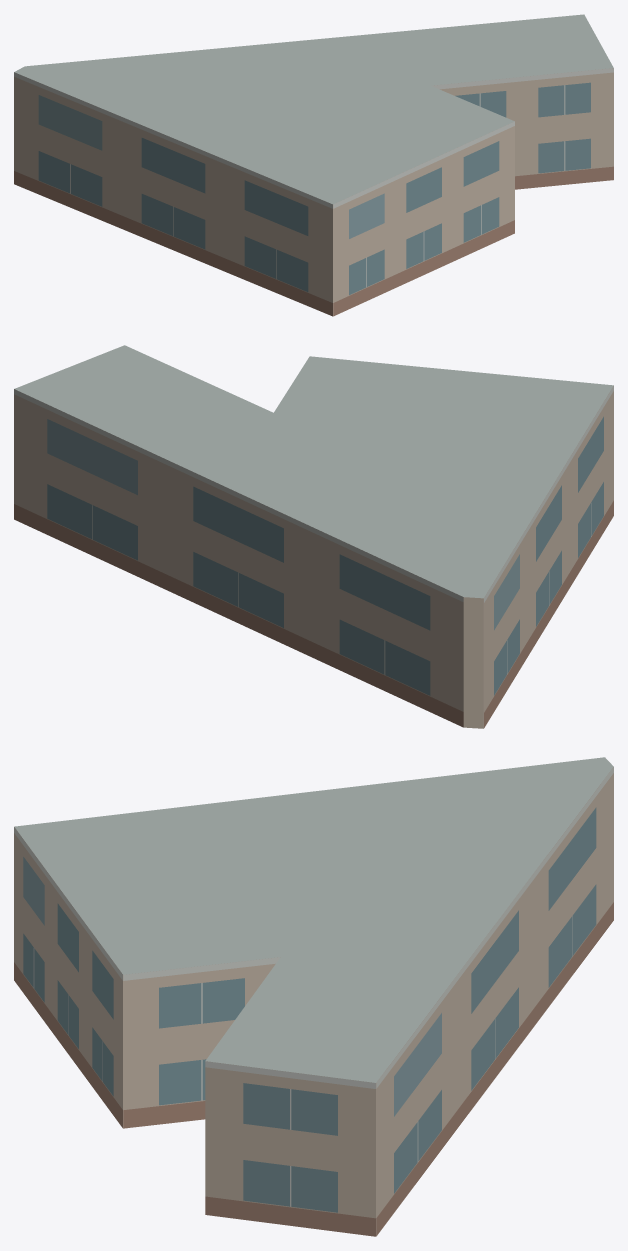
The model's file is survey-upis-32933564.glb.
3 views of the same model, one above another, from view 1: azimuth 30°, elevation 25°; view 2: azimuth 150°, elevation 25°; view 3: azimuth 270°, elevation 25° (orthographic). The views are drawn at different scales.
Parts seen in each view (by area): view 1: survey-upis-32933564.tmp; view 2: survey-upis-32933564.tmp; view 3: survey-upis-32933564.tmp.
Part boxes in pixels (x1,y1,x2,y2): survey-upis-32933564.tmp: (14,14,613,316); survey-upis-32933564.tmp: (14,345,613,728); survey-upis-32933564.tmp: (14,757,613,1236).
Size of the model in its own units: 27.74 by 6.1 by 21.58.
